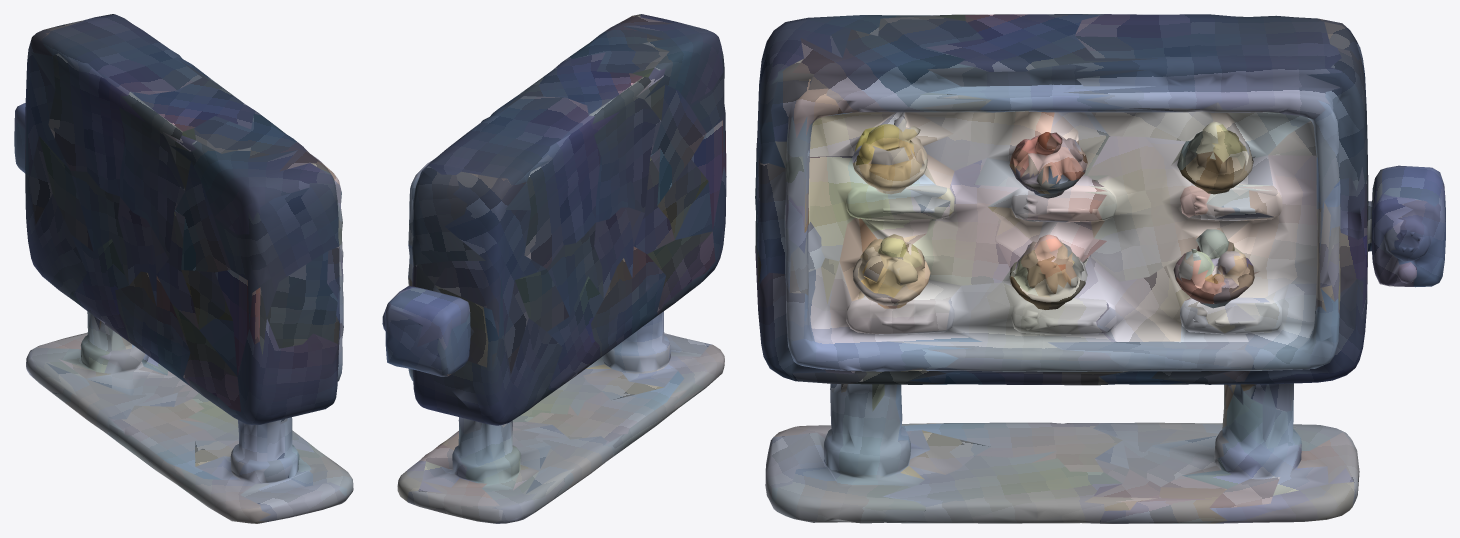
The model's file is KR_사물_s1_sm_drive_thru_menu.glb.
3 renders of one model, left to right at view 1: azimuth 30°, elevation 25°; view 2: azimuth 150°, elevation 25°; view 3: azimuth 270°, elevation 25°, orthographic. The views are drawn at different scales.
Parts seen in each view (by area): view 1: tripo_node_57e13c60-4b2c-4ee5-9cb7-d13bc22ab8f6; view 2: tripo_node_57e13c60-4b2c-4ee5-9cb7-d13bc22ab8f6; view 3: tripo_node_57e13c60-4b2c-4ee5-9cb7-d13bc22ab8f6.
Part boxes in pixels (x1,y1,x2,y2): tripo_node_57e13c60-4b2c-4ee5-9cb7-d13bc22ab8f6: (14, 14, 353, 523); tripo_node_57e13c60-4b2c-4ee5-9cb7-d13bc22ab8f6: (382, 14, 726, 523); tripo_node_57e13c60-4b2c-4ee5-9cb7-d13bc22ab8f6: (755, 14, 1445, 523).
Size of the model in its own units: 0.3093 by 0.7082 by 1.
Materials: 1 (1 with a texture image).
